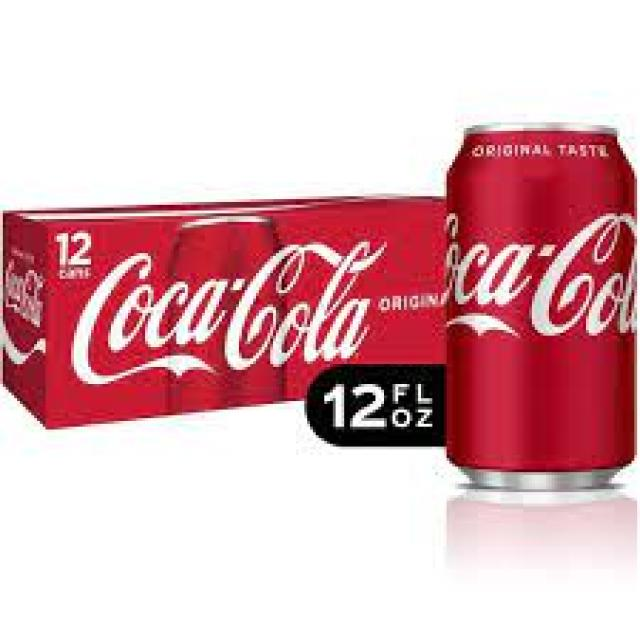Coca-Cola: (438, 114, 640, 496)
